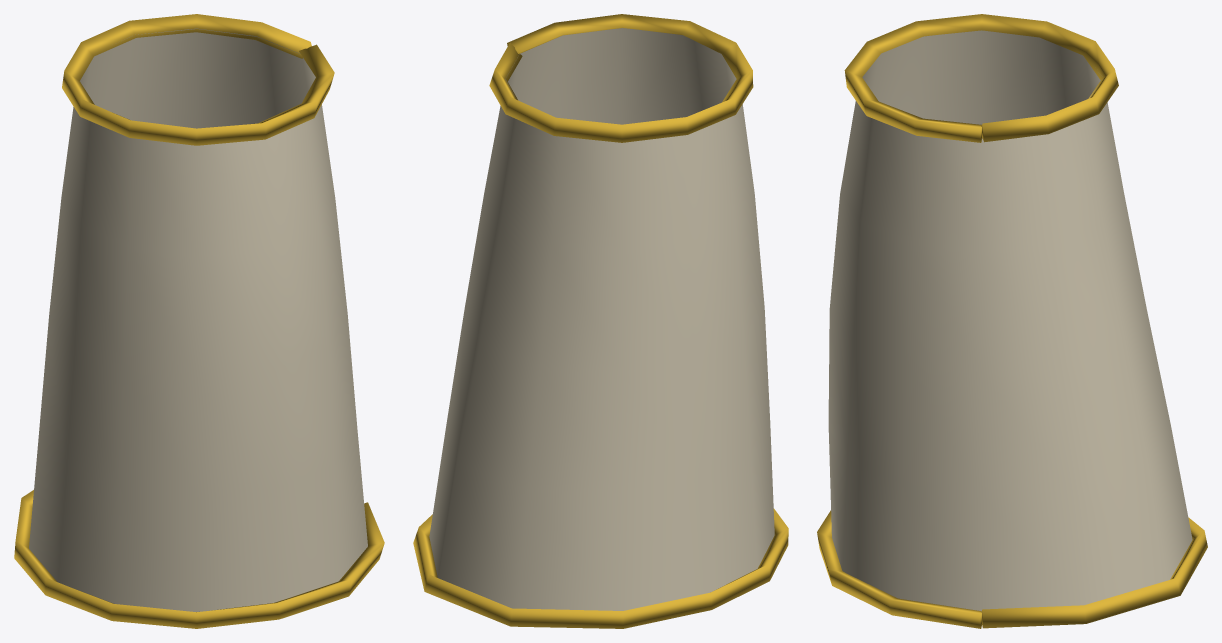
The model's file is radiant_armor_cuisse.L.glb.
3 renders of one model, left to right at view 1: azimuth 30°, elevation 25°; view 2: azimuth 150°, elevation 25°; view 3: azimuth 270°, elevation 25°, orthographic. The views are drawn at different scales.
Visible parts, largest first — view 1: radiant_armor_cuisse.L; view 2: radiant_armor_cuisse.L; view 3: radiant_armor_cuisse.L.
Part boxes in pixels (x1,y1,x2,y2): radiant_armor_cuisse.L: [14, 14, 384, 628]; radiant_armor_cuisse.L: [413, 14, 788, 628]; radiant_armor_cuisse.L: [817, 14, 1207, 628].
Bounding box in the file's own units: 0.2653 × 0.3856 × 0.284.
